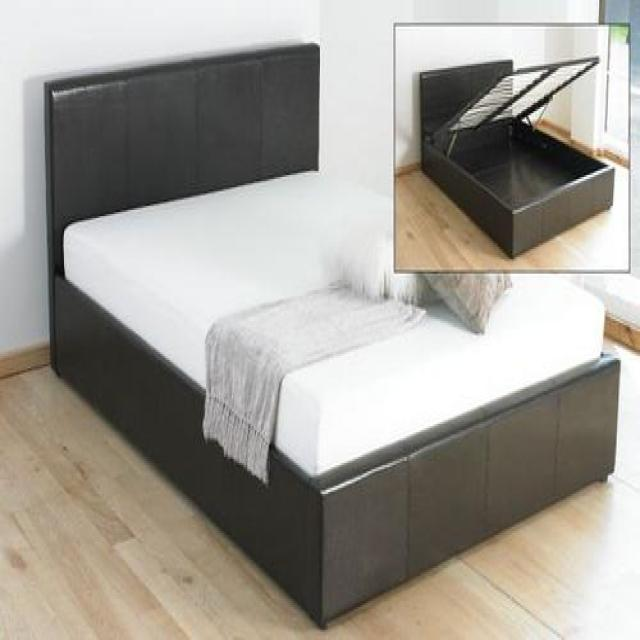bed: (42, 39, 620, 630)
